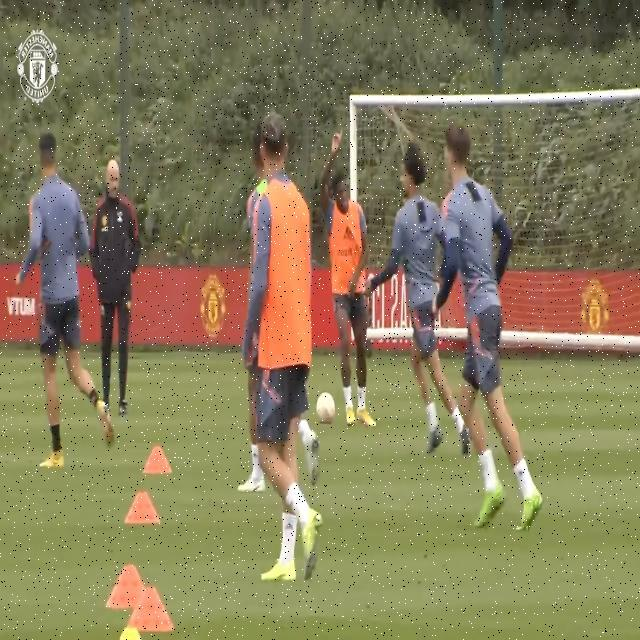Adidas: (342, 224, 356, 242)
